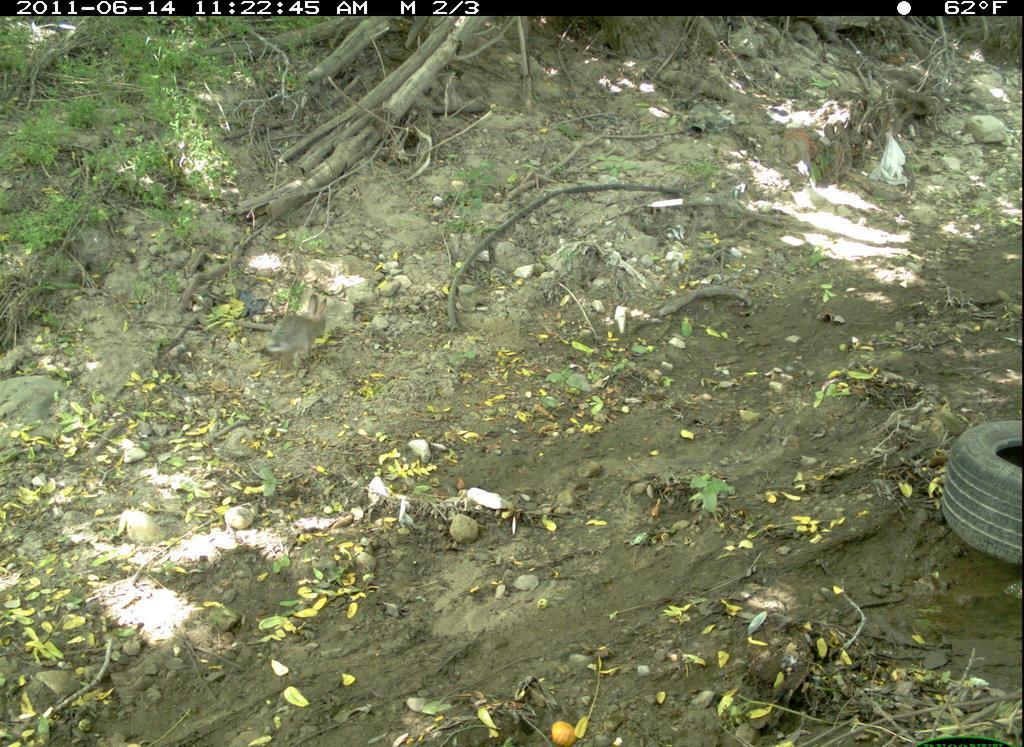rabbit: (262, 290, 337, 372)
